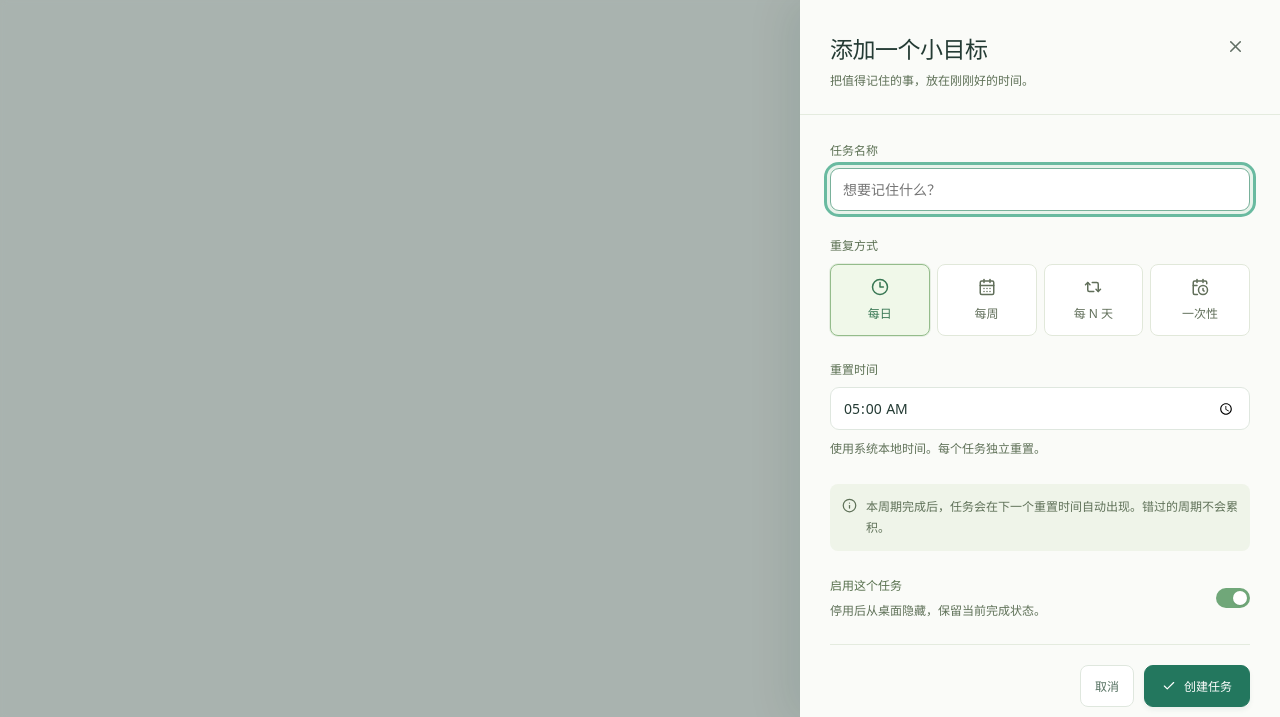
it: 任务编辑 › 每 N 天只接受正整数
In the field labelled "任务名称": (1040, 190) [830,168,1250,211], type "检查体力"
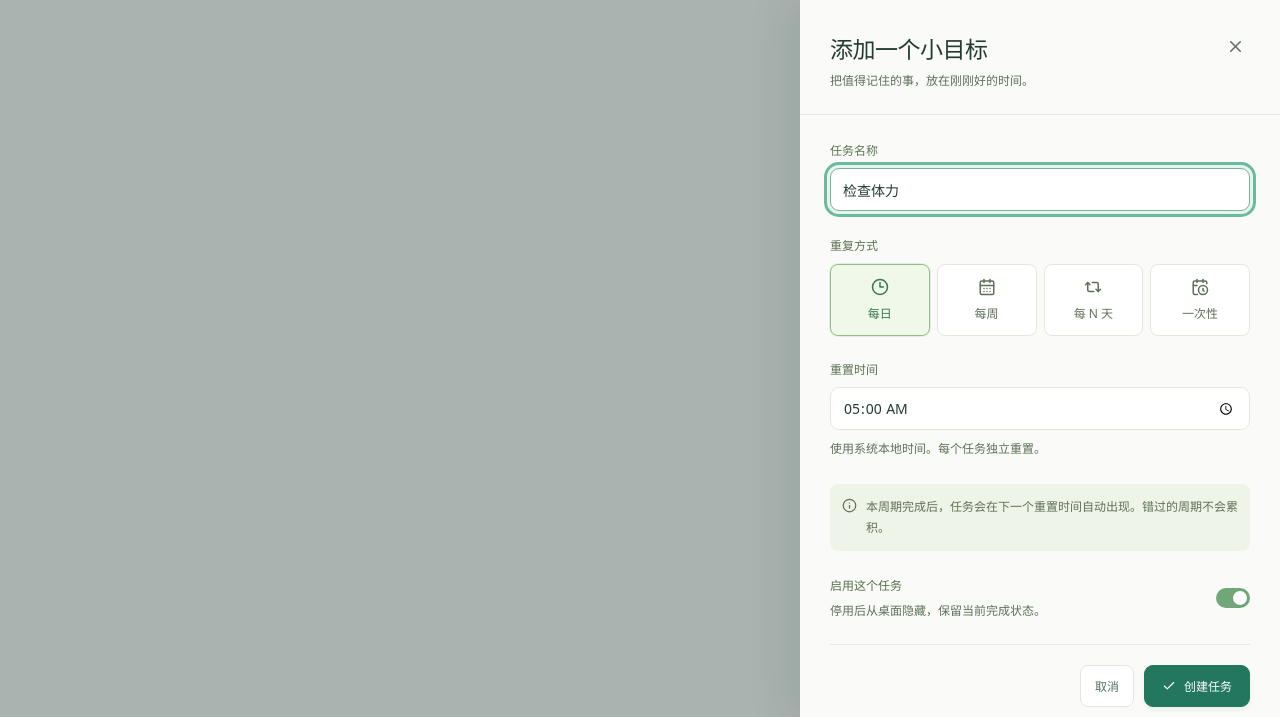
Click the radio button labelled "每 N 天": (1093, 300) [1044,264,1143,336]
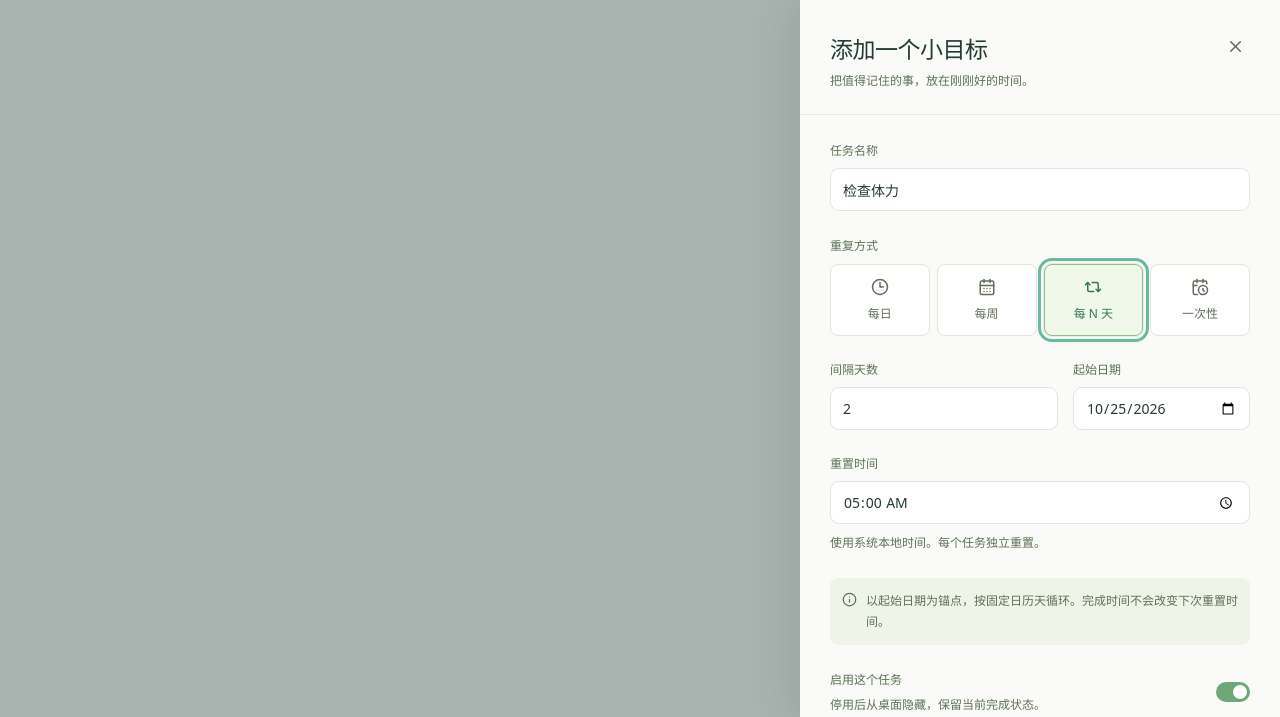
Replace the text in the number field labelled "间隔天数" with "0": (944, 409) [830,387,1058,430]
(page scrolled)
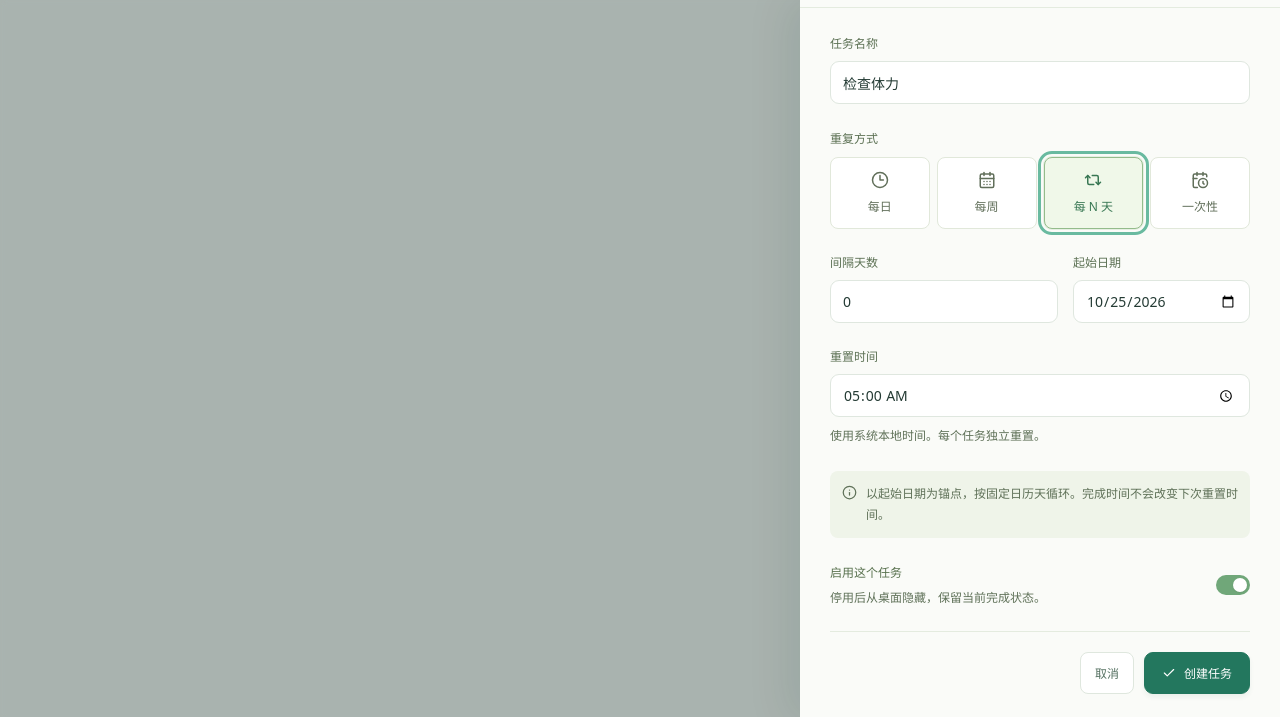
Click the button "创建任务": (1197, 673) [1144,652,1250,694]
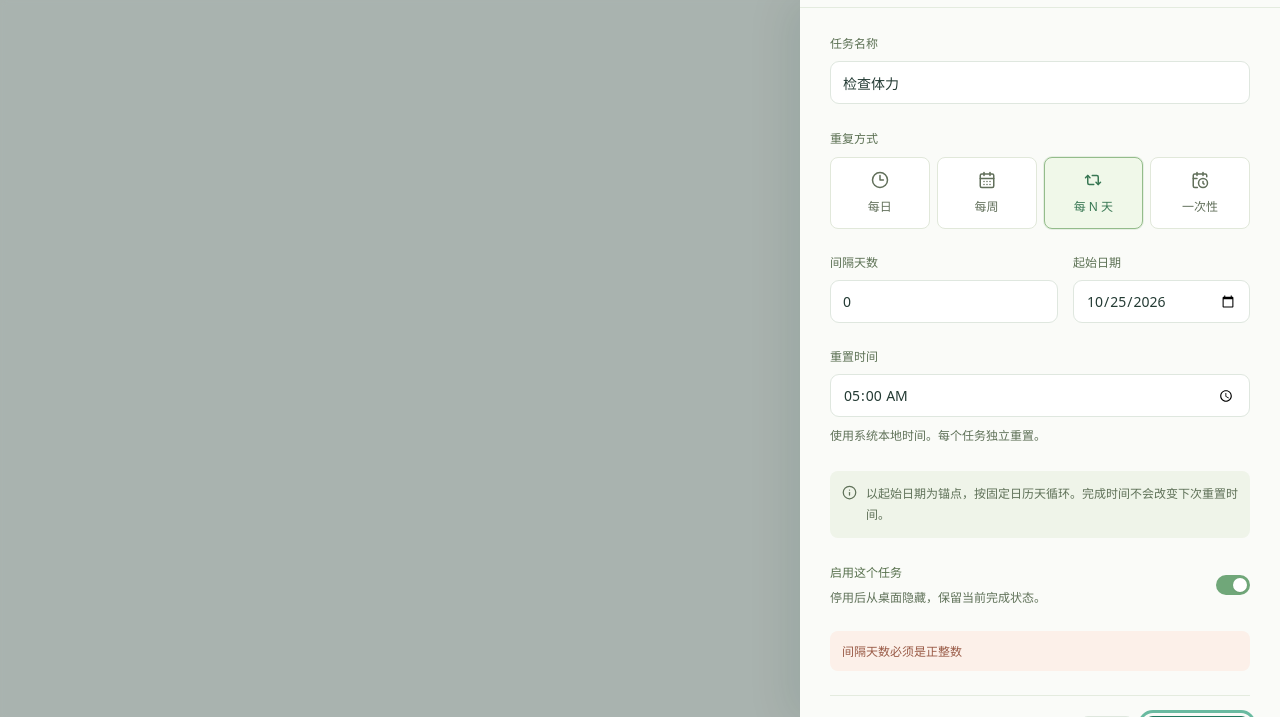
Expected: the text "间隔天数必须是正整数" is shown, [830,631,1250,671]
